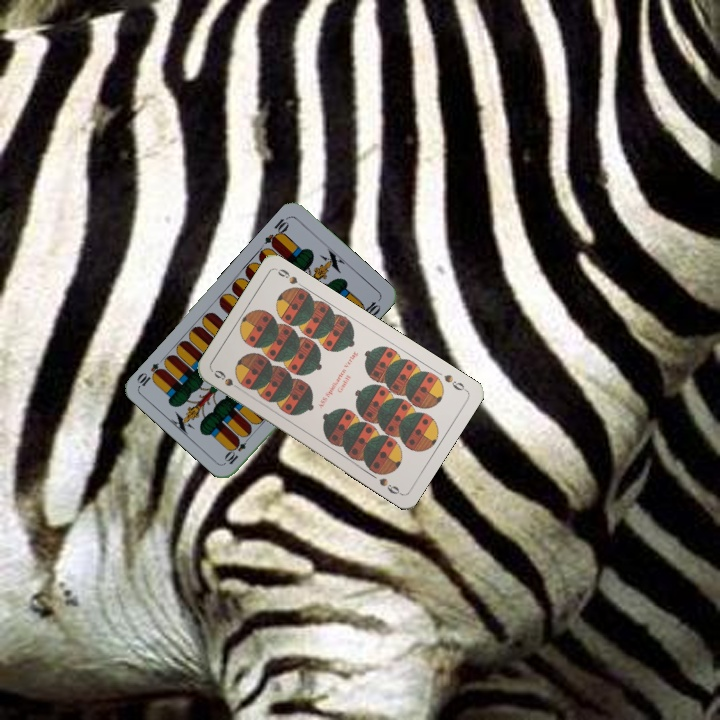E10: (221, 431, 253, 467), (261, 213, 292, 250)
S9: (440, 370, 469, 394), (210, 366, 238, 390)
